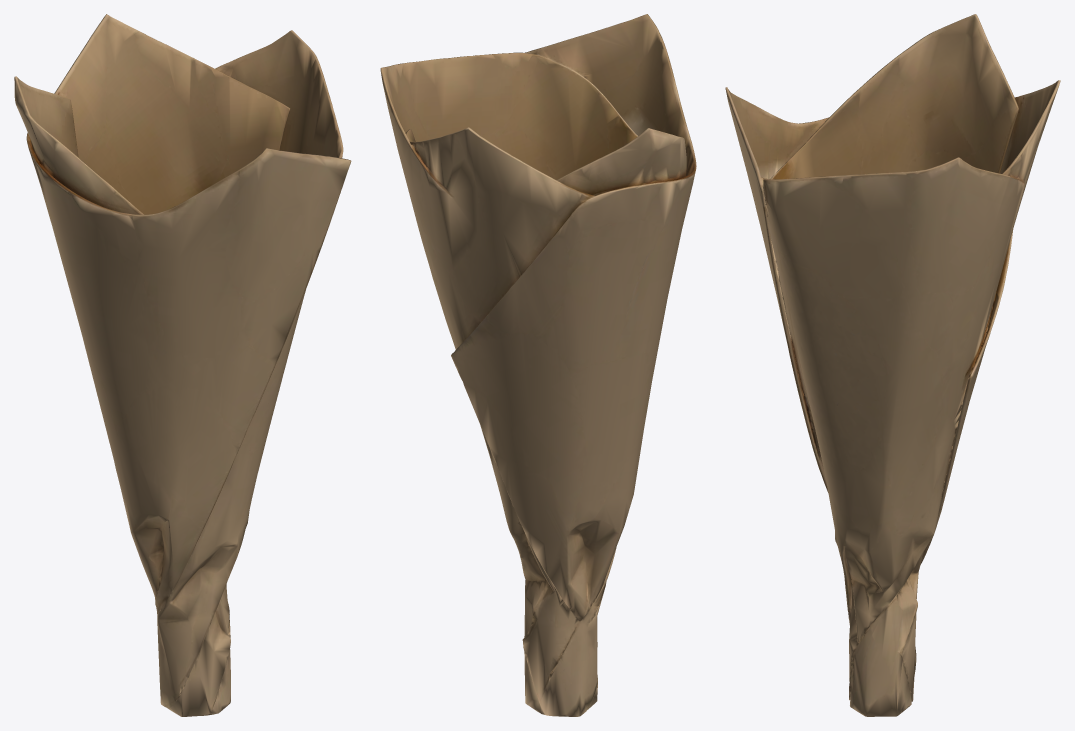
File: fl-wrap-kraft-cone.glb
3 renders of one model, left to right at view 1: azimuth 30°, elevation 25°; view 2: azimuth 150°, elevation 25°; view 3: azimuth 270°, elevation 25°, orthographic. The views are drawn at different scales.
Parts seen in each view (by area): view 1: node_0; view 2: node_0; view 3: node_0.
Part boxes in pixels (<box>): node_0: <box>14,14,351,716</box>; node_0: <box>380,14,696,716</box>; node_0: <box>725,14,1060,716</box>.
Bounding box in the file's own units: 0.5045 × 1.07 × 0.521.
Materials: 1 (1 with a texture image).
